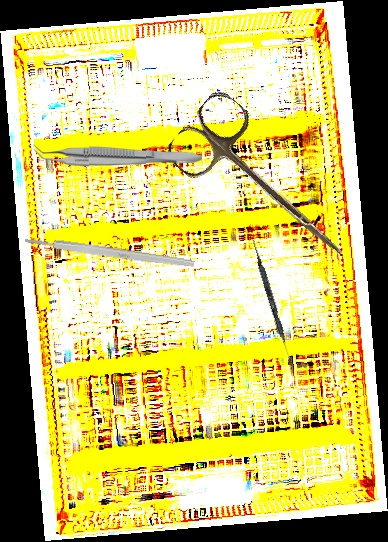Iris Scissors: (161, 86, 373, 284)
Scalpel Handle: (24, 235, 195, 269)
Spatula Surgical: (248, 239, 296, 366)
Tissue Forceps: (32, 141, 203, 168)
